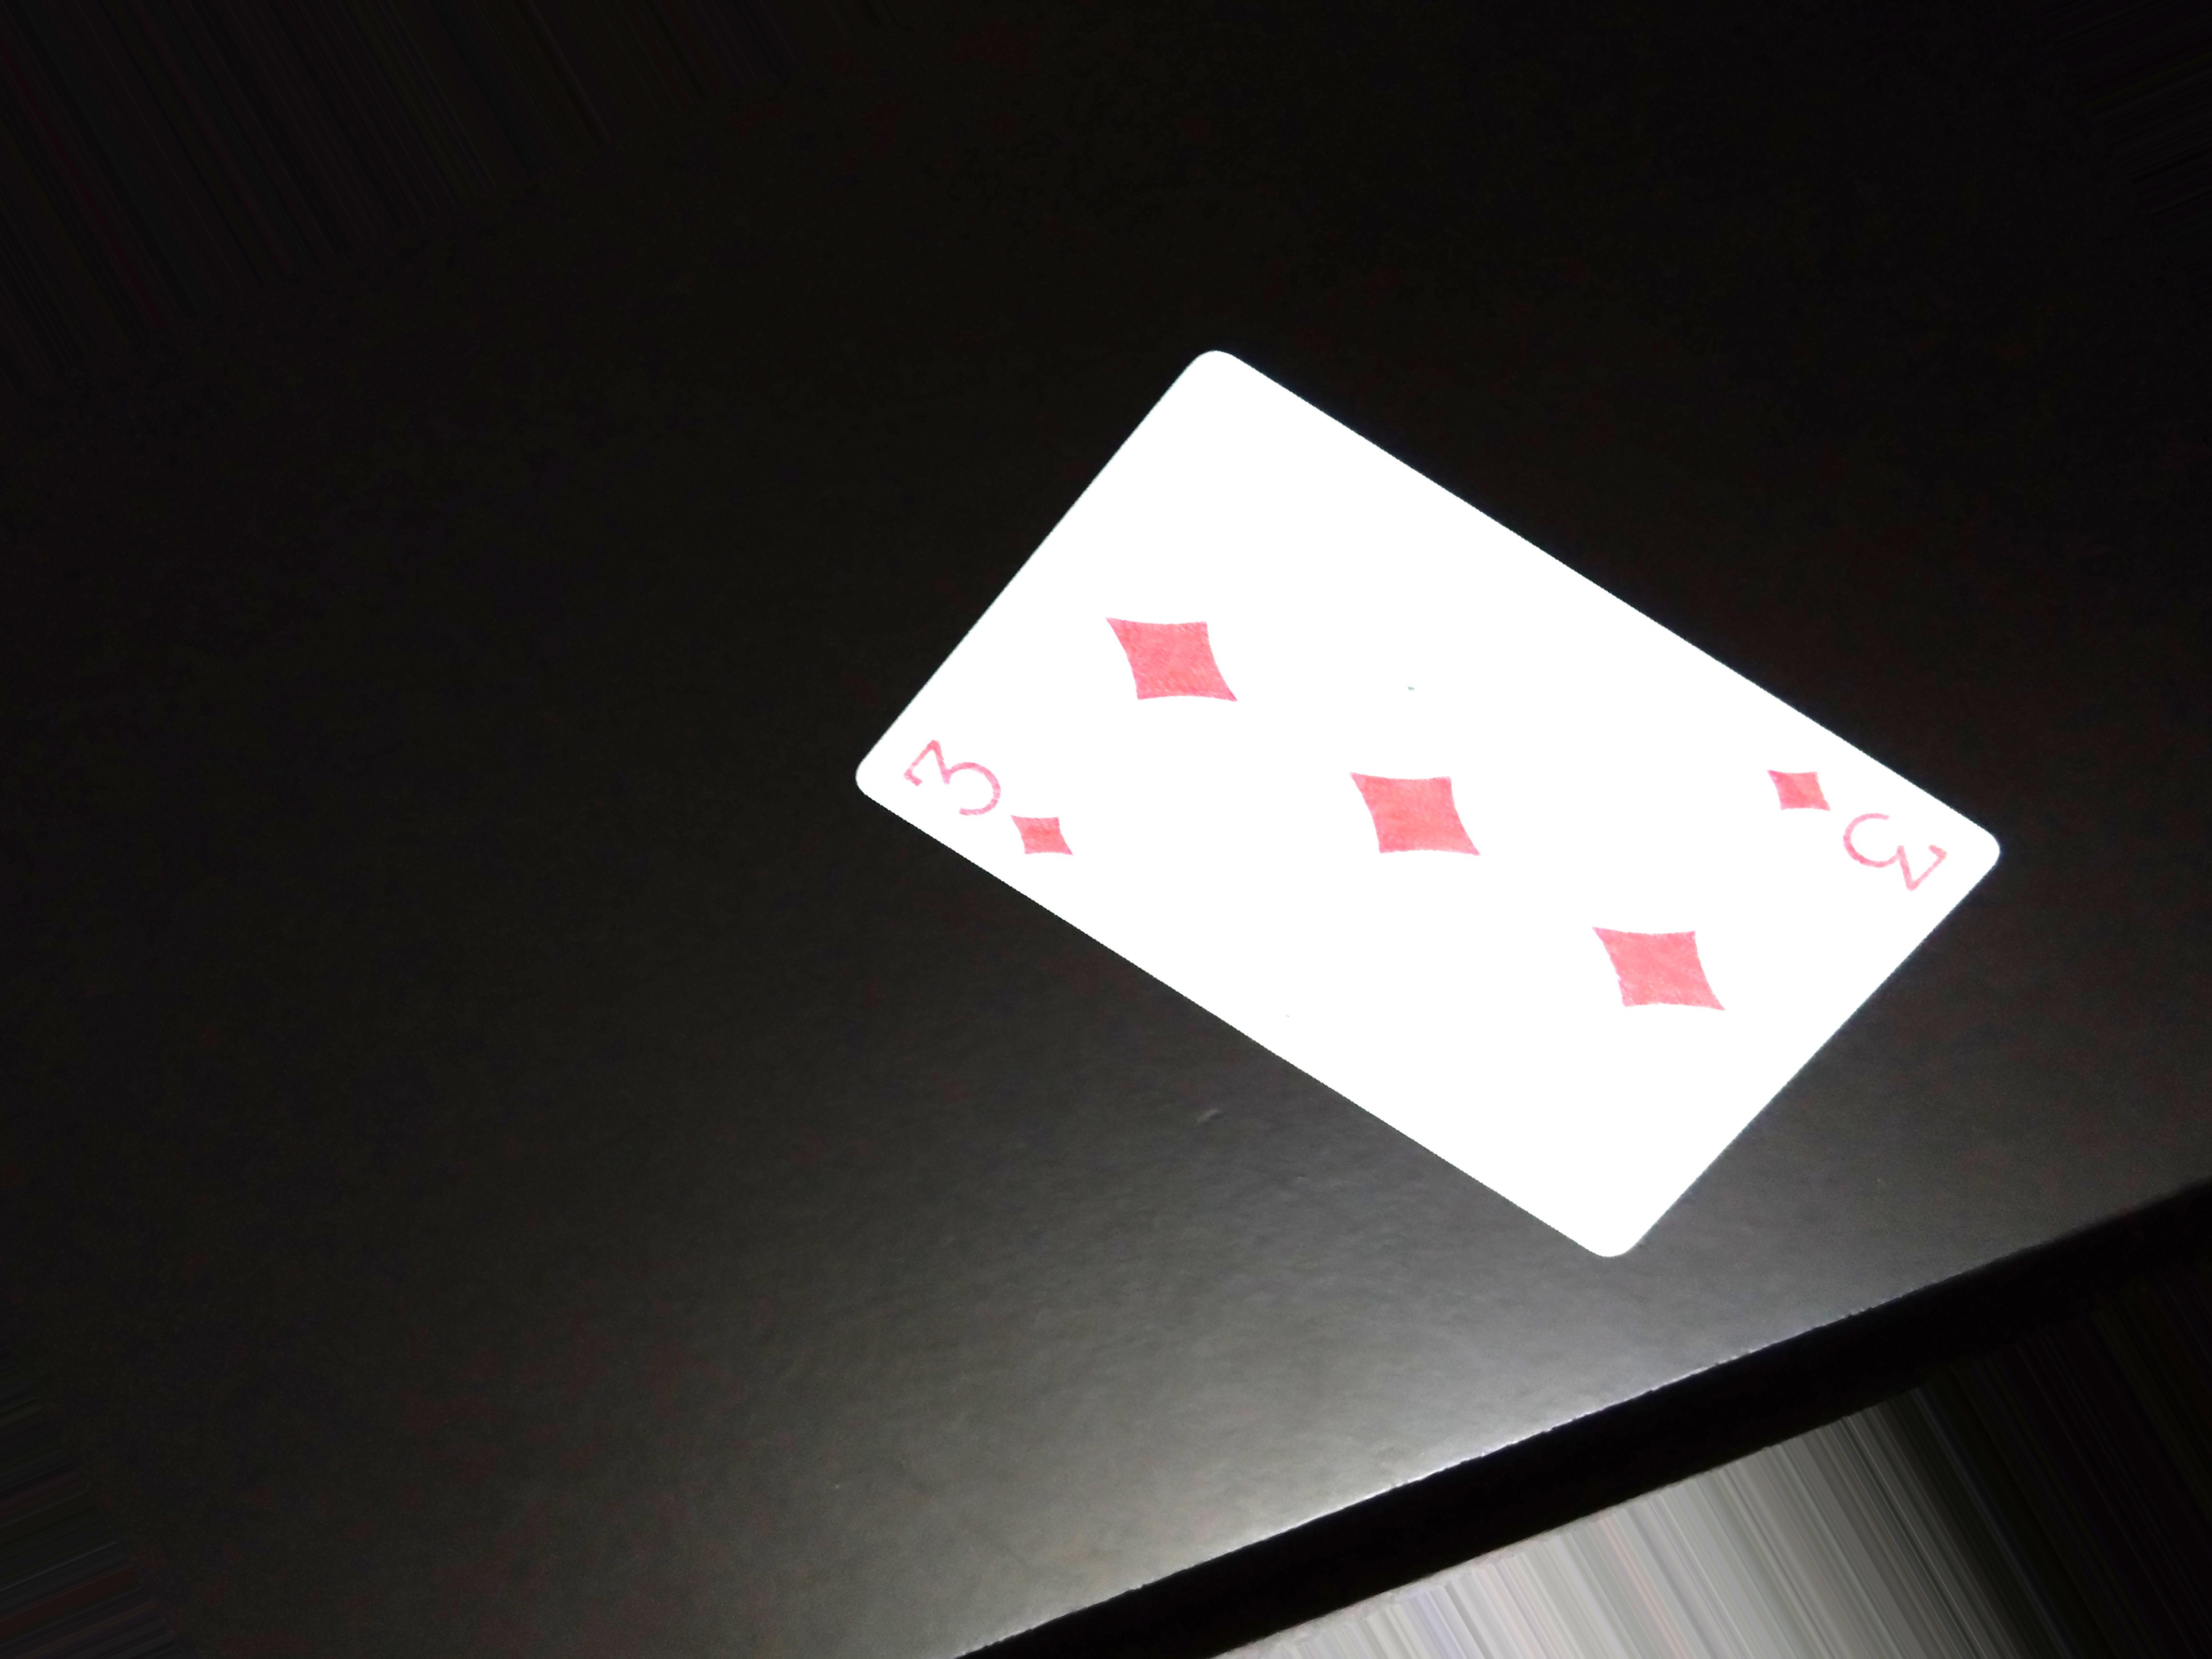3D: (887, 734, 1099, 892)
